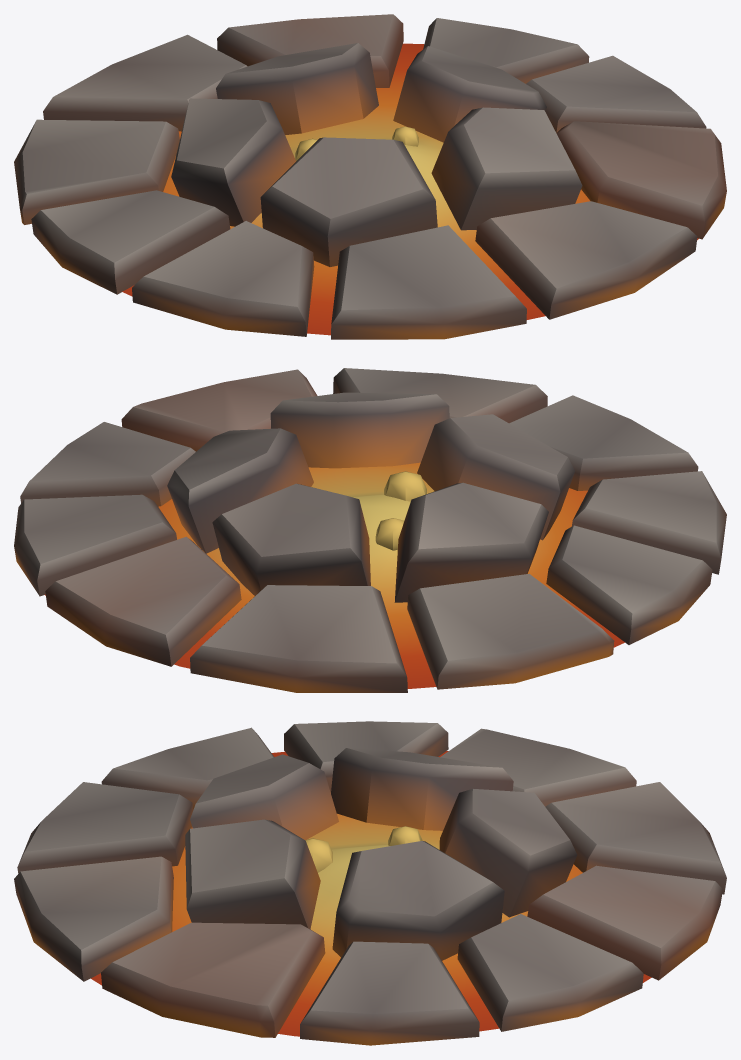
File: EmberVentCell.fbx
The picture shows the model from 3 angles, top to bottom: view 1: azimuth 30°, elevation 25°; view 2: azimuth 150°, elevation 25°; view 3: azimuth 270°, elevation 25°; orthographic projection.
Parts seen in each view (by area): view 1: Crust, Fissure; view 2: Crust, Fissure; view 3: Crust, Fissure.
Part boxes in pixels (box(x1,y1,x2,y2)): Crust: box(14, 14, 726, 339); Fissure: box(122, 43, 698, 335); Crust: box(14, 368, 726, 692); Fissure: box(44, 462, 624, 688); Crust: box(14, 721, 726, 1045); Fissure: box(91, 751, 651, 1036).
Size of the model in its own units: 0.9247 by 0.1381 by 0.9243.
